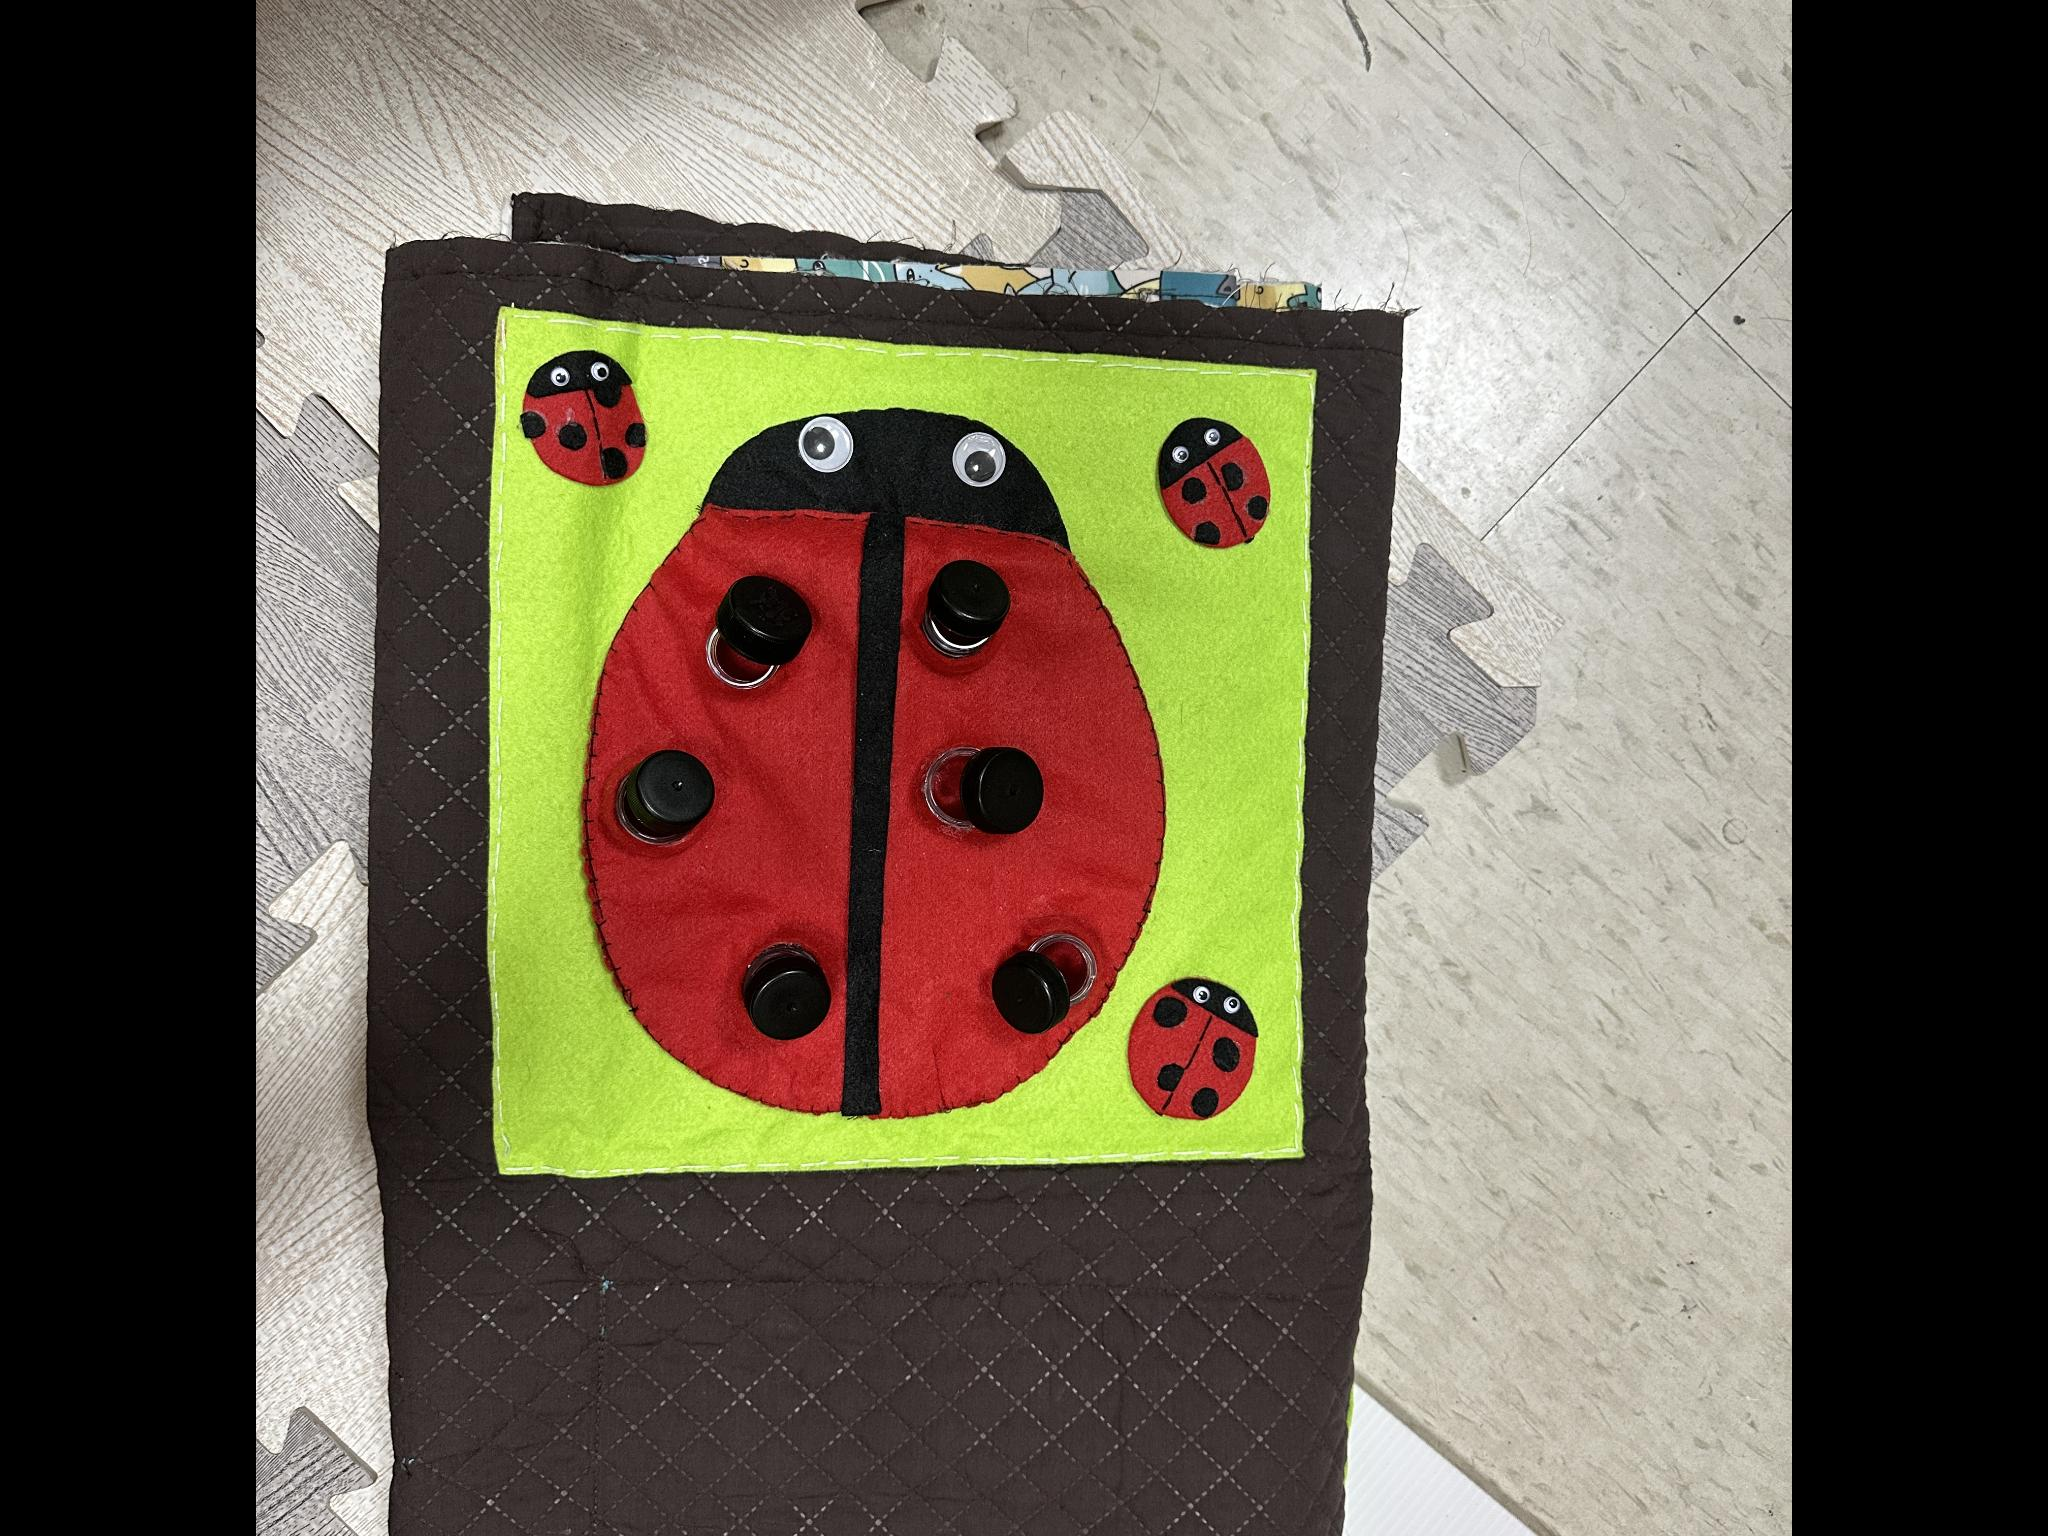cap_ng: (893, 721, 1050, 863), (690, 560, 829, 710), (585, 742, 743, 873), (703, 918, 842, 1055), (906, 552, 1030, 686), (979, 913, 1103, 1044)
